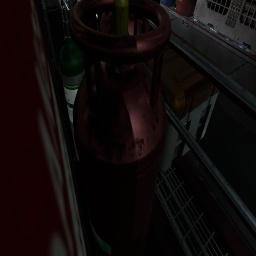0: (59, 2, 85, 162), (64, 0, 74, 36)
NitrogenTank ,: (68, 0, 171, 256), (99, 11, 150, 64)
